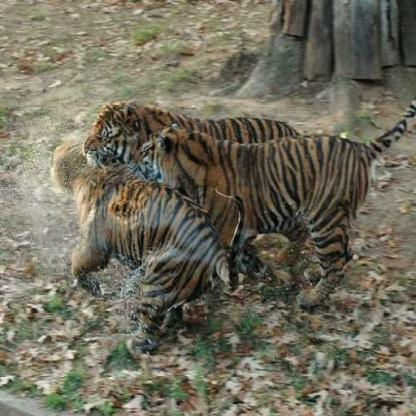Tiger: (132, 116, 381, 312), (38, 136, 246, 354), (82, 80, 324, 178)
